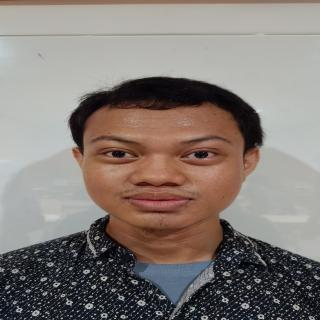Takut: (80, 92, 239, 236)
